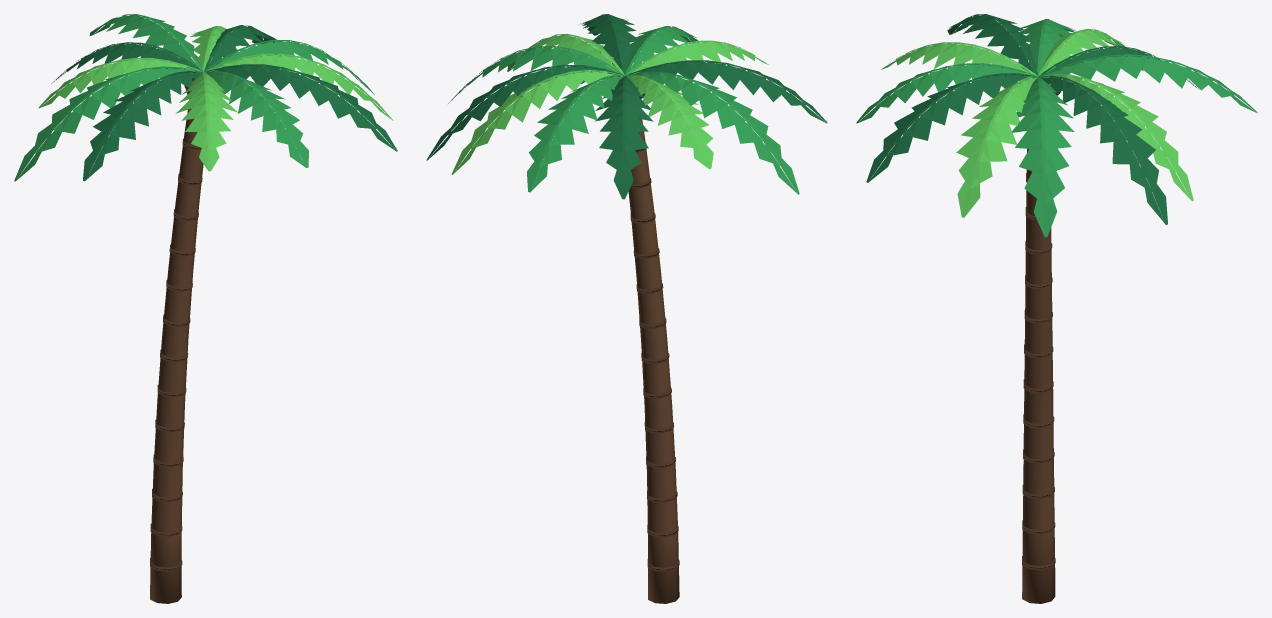
Rendered from lava_palm_b.glb.
The picture shows the model from 3 angles, left to right: view 1: azimuth 30°, elevation 25°; view 2: azimuth 150°, elevation 25°; view 3: azimuth 270°, elevation 25°; orthographic projection. The views are drawn at different scales.
Visible parts, largest first — view 1: PalmB; view 2: PalmB; view 3: PalmB.
Boxes of the visible parts, <box> form: PalmB: <box>14,14,397,603</box>; PalmB: <box>426,14,827,603</box>; PalmB: <box>856,14,1257,603</box>.
Bounding box in the file's own units: 6.52 × 9.34 × 6.07.
